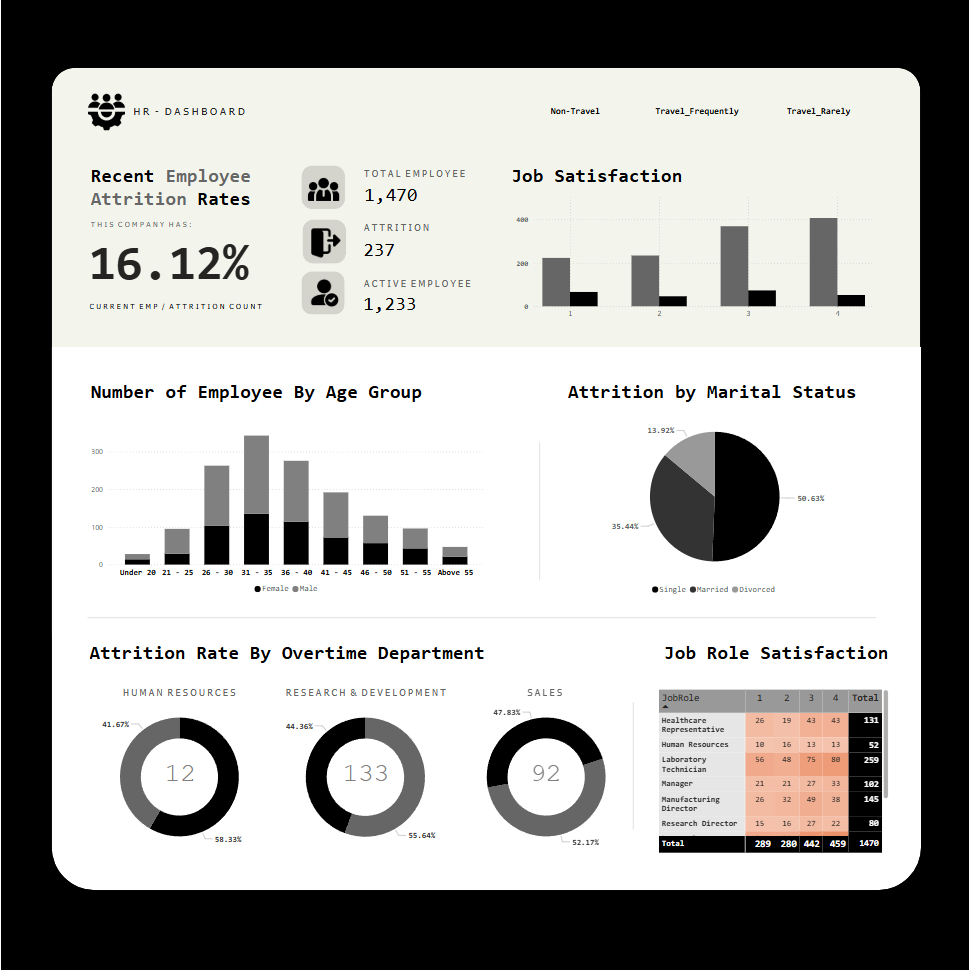

What the dashboard file says about the page in this screenshot:
{"tool":"powerbi","page":{"name":"Page 1","canvas":[1600,1600],"ordinal":0},"visuals":[{"type":"shape","box":[83.3,113.3,1430,970],"z":0},{"type":"shape","box":[82.5,572.5,1431.2,895],"z":1000},{"type":"textbox","box":[141.7,267.3,315,103.3],"z":2000},{"type":"tableEx","fields":{"Values":["HR-Employee-Attrition.Attrition Rates"]},"box":[132.5,354.8,300,135],"z":3000},{"type":"textbox","box":[141.2,489.8,340,30],"z":4000},{"type":"textbox","box":[142.5,354.8,186.2,30],"z":5000},{"type":"shape","box":[494.5,273.7,72,72],"z":6000},{"type":"shape","box":[495.5,362.8,71.8,72.7],"z":7000},{"type":"shape","box":[494.6,448.1,71.5,71.5],"z":8000},{"type":"image","box":[497.8,279.6,65.6,66.7],"z":9000},{"type":"tableEx","fields":{"Values":["Sum(HR-Employee-Attrition.EmployeeCount)"]},"box":[587.5,274.8,190,70],"z":10000},{"type":"shape","box":[586,255.3,176,48],"z":11000},{"type":"textbox","box":[592,273.3,186,30],"z":12000},{"type":"image","box":[501.7,371.5,65,58.3],"z":13000},{"type":"tableEx","fields":{"Values":["Sum(HR-Employee-Attrition.Attrition Count)"]},"box":[585.6,364,190,70],"z":14000},{"type":"shape","box":[588.6,344.6,176,48],"z":15000},{"type":"textbox","box":[592.2,362.9,186.7,30],"z":16000},{"type":"image","box":[501.1,454,62.2,60],"z":17000},{"type":"tableEx","fields":{"Values":["Sum(HR-Employee-Attrition.Active Employee)"]},"box":[585,453.6,190,70],"z":18000},{"type":"shape","box":[587.8,434.6,176,48],"z":19000},{"type":"textbox","box":[592.9,453,205.7,30],"z":20000},{"type":"textbox","box":[835,267.3,315,52.5],"z":21000},{"type":"clusteredColumnChart","fields":{"Category":["HR-Employee-Attrition.JobSatisfaction"],"Y":["Sum(HR-Employee-Attrition.Active Employee)","Sum(HR-Employee-Attrition.Attrition Count)"]},"box":[842.5,312.3,597.5,222.5],"z":22000},{"type":"slicer","fields":{"Values":["HR-Employee-Attrition.BusinessTravel"]},"box":[820,160,648.3,50],"z":23000},{"type":"image","box":[132.5,147.5,80,75],"z":24000},{"type":"textbox","box":[213.3,170,300,40],"z":25000},{"type":"textbox","box":[142.9,622.9,590,52.9],"z":26000},{"type":"columnChart","fields":{"Category":["AgeBinSortTable.Age Bin"],"Y":["Sum(HR-Employee-Attrition.EmployeeCount)"],"Series":["HR-Employee-Attrition.Gender"]},"box":[142.5,700,657.5,290],"z":27000},{"type":"pivotTable","fields":{"Rows":["HR-Employee-Attrition.JobRole"],"Columns":["HR-Employee-Attrition.JobSatisfaction"],"Values":["Sum(HR-Employee-Attrition.EmployeeCount)"]},"box":[1078.3,1131.7,388.3,278.3],"z":28000},{"type":"textbox","box":[876.7,1051.7,590,51.7],"z":29000},{"type":"shape","box":[877.5,730,17.5,227.5],"z":30000},{"type":"donutChart","fields":{"Series":["HR-Employee-Attrition.Department"],"Y":["Sum(HR-Employee-Attrition.Attrition Count)"],"Category":["HR-Employee-Attrition.OverTime"]},"box":[130,1127.5,327.5,305],"z":31000},{"type":"shape","box":[142.5,990,1297.5,55],"z":32000},{"type":"textbox","box":[140,1052.5,695,52.5],"z":33000},{"type":"textbox","box":[176,1128,234,30],"z":34000},{"type":"textbox","box":[450,1128.6,300,30],"z":35000},{"type":"donutChart","fields":{"Series":["HR-Employee-Attrition.Department"],"Y":["Sum(HR-Employee-Attrition.Attrition Count)"],"Category":["HR-Employee-Attrition.OverTime"]},"box":[435.7,1127.1,328.6,305.7],"z":36000},{"type":"donutChart","fields":{"Series":["HR-Employee-Attrition.Department"],"Y":["Sum(HR-Employee-Attrition.Attrition Count)"],"Category":["HR-Employee-Attrition.OverTime"]},"box":[732.5,1127.5,327.5,305],"z":37000},{"type":"textbox","box":[778,1128,234,30],"z":38000},{"type":"card","fields":{"Values":["Sum(HR-Employee-Attrition.Attrition Count)"]},"box":[218,1236,152,70],"z":39000},{"type":"card","fields":{"Values":["Sum(HR-Employee-Attrition.Attrition Count)"]},"box":[524,1236,152,70],"z":40000},{"type":"card","fields":{"Values":["Sum(HR-Employee-Attrition.Attrition Count)"]},"box":[820,1236,152,70],"z":41000},{"type":"shape","box":[1022.5,1157.5,37.5,210],"z":42000},{"type":"pieChart","fields":{"Category":["HR-Employee-Attrition.MaritalStatus"],"Y":["Sum(HR-Employee-Attrition.Attrition Count)"]},"box":[880,675,590,315],"z":43000},{"type":"textbox","box":[875,622.5,590,52.5],"z":44000}]}

Visuals, with their boxes in screenshot pixels (x1, y1, x2, y2), scaled from the page's 1600x1600 canvas onto the 969x970 screenshot:
shape: [50,69,916,657]
shape: [50,347,917,890]
textbox: [86,162,277,225]
tableEx - HR-Employee-Attrition.Attrition Rates: [80,215,262,297]
textbox: [86,297,291,315]
textbox: [86,215,199,233]
shape: [299,166,343,210]
shape: [300,220,344,264]
shape: [300,272,343,315]
image: [301,170,341,210]
tableEx - Sum(HR-Employee-Attrition.EmployeeCount): [356,167,471,209]
shape: [355,155,461,184]
textbox: [359,166,471,184]
image: [304,225,343,261]
tableEx - Sum(HR-Employee-Attrition.Attrition Count): [355,221,470,263]
shape: [356,209,463,238]
textbox: [359,220,472,238]
image: [303,275,341,312]
tableEx - Sum(HR-Employee-Attrition.Active Employee): [354,275,469,317]
shape: [356,263,463,293]
textbox: [359,275,484,293]
textbox: [506,162,696,194]
clusteredColumnChart - HR-Employee-Attrition.JobSatisfaction x Sum(HR-Employee-Attrition.Active Employee): [510,189,872,324]
slicer - HR-Employee-Attrition.BusinessTravel: [497,97,889,127]
image: [80,89,129,135]
textbox: [129,103,311,127]
textbox: [87,378,444,410]
columnChart - AgeBinSortTable.Age Bin x Sum(HR-Employee-Attrition.EmployeeCount): [86,424,484,600]
pivotTable - HR-Employee-Attrition.JobRole x HR-Employee-Attrition.JobSatisfaction: [653,686,888,855]
textbox: [531,638,888,669]
shape: [531,443,542,580]
donutChart - HR-Employee-Attrition.Department x Sum(HR-Employee-Attrition.Attrition Count): [79,684,277,868]
shape: [86,600,872,634]
textbox: [85,638,506,670]
textbox: [107,684,248,702]
textbox: [273,684,454,702]
donutChart - HR-Employee-Attrition.Department x Sum(HR-Employee-Attrition.Attrition Count): [264,683,463,869]
donutChart - HR-Employee-Attrition.Department x Sum(HR-Employee-Attrition.Attrition Count): [444,684,642,868]
textbox: [471,684,613,702]
card - Sum(HR-Employee-Attrition.Attrition Count): [132,749,224,792]
card - Sum(HR-Employee-Attrition.Attrition Count): [317,749,409,792]
card - Sum(HR-Employee-Attrition.Attrition Count): [497,749,589,792]
shape: [619,702,642,829]
pieChart - HR-Employee-Attrition.MaritalStatus x Sum(HR-Employee-Attrition.Attrition Count): [533,409,890,600]
textbox: [530,377,887,409]
